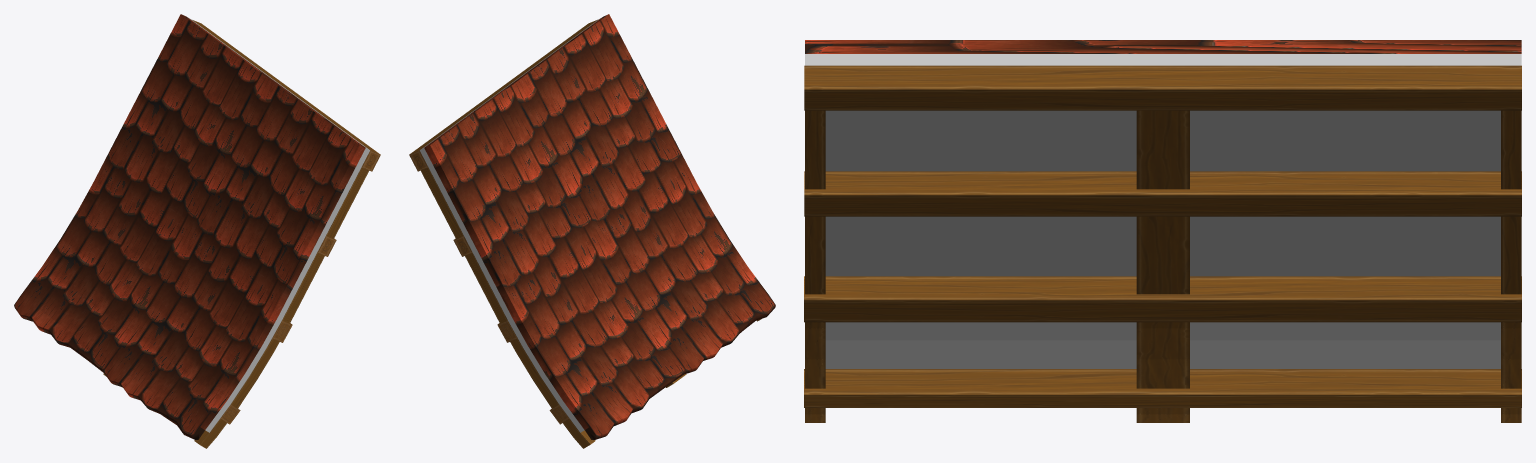
The model's file is SM_House_Roof_01_Tiling_Base.fbx.
3 views of the same model, side by side, from view 1: azimuth 30°, elevation 25°; view 2: azimuth 150°, elevation 25°; view 3: azimuth 270°, elevation 25° (orthographic). The views are drawn at different scales.
Parts seen in each view (by area): view 1: SM_House_Roof_01_Tiling_Base; view 2: SM_House_Roof_01_Tiling_Base; view 3: SM_House_Roof_01_Tiling_Base.
Boxes of the visible parts, x1=… form: SM_House_Roof_01_Tiling_Base: x1=14, y1=14, x2=380, y2=448; SM_House_Roof_01_Tiling_Base: x1=409, y1=14, x2=775, y2=448; SM_House_Roof_01_Tiling_Base: x1=804, y1=40, x2=1521, y2=422.
Size of the model in its own units: 3.08 by 4.1 by 5.01.
